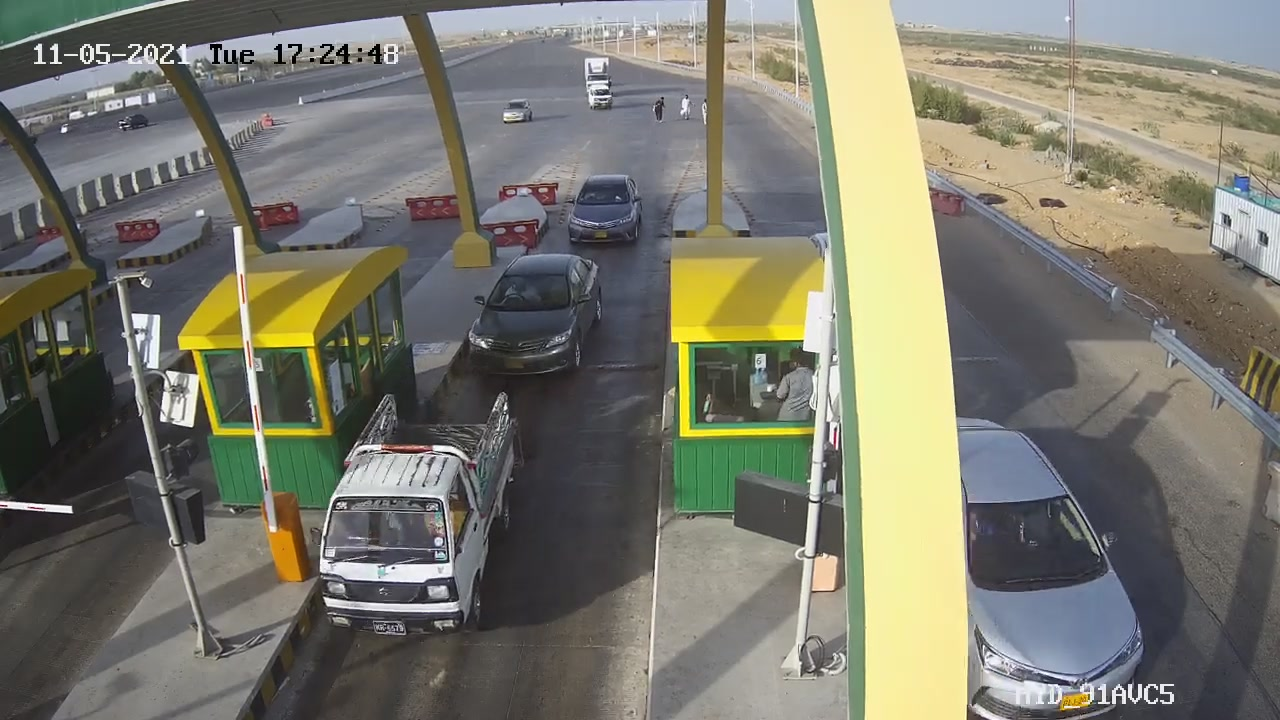F1: (450, 236, 621, 399)
